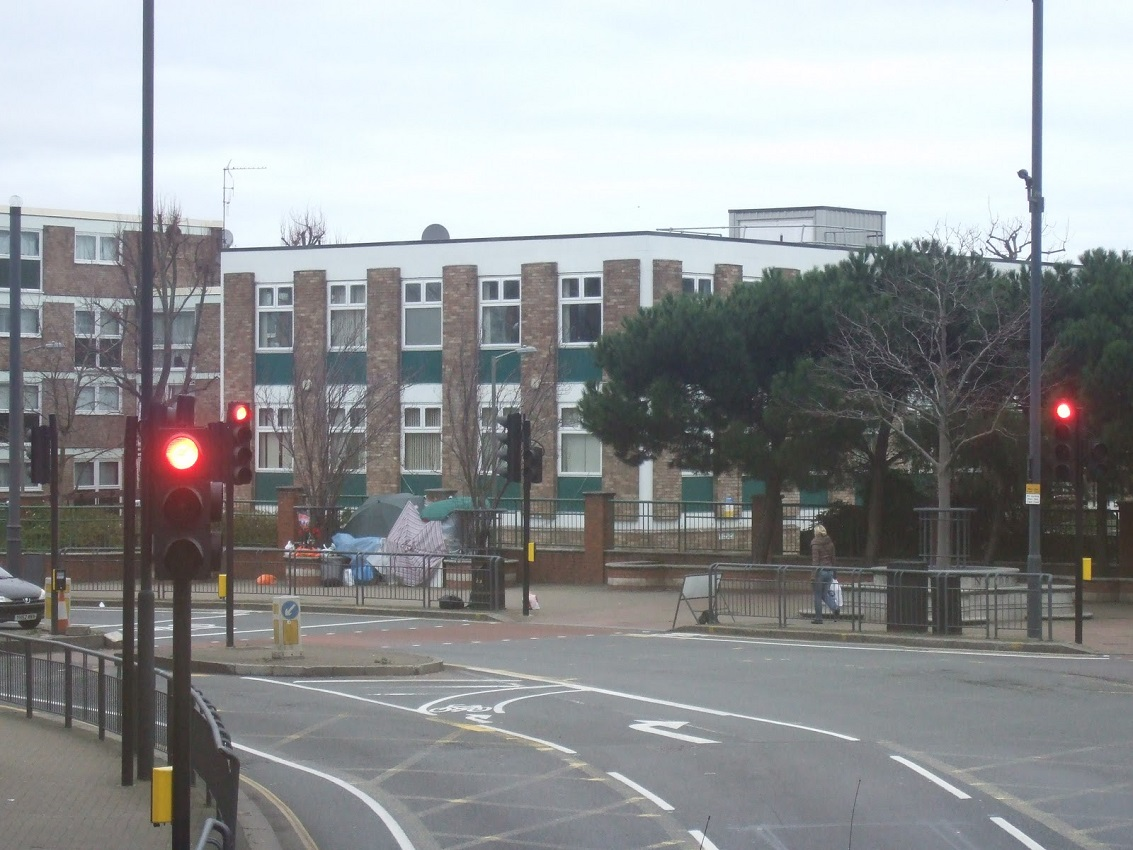traffic_light: (155, 426, 213, 582), (1051, 398, 1078, 482)
